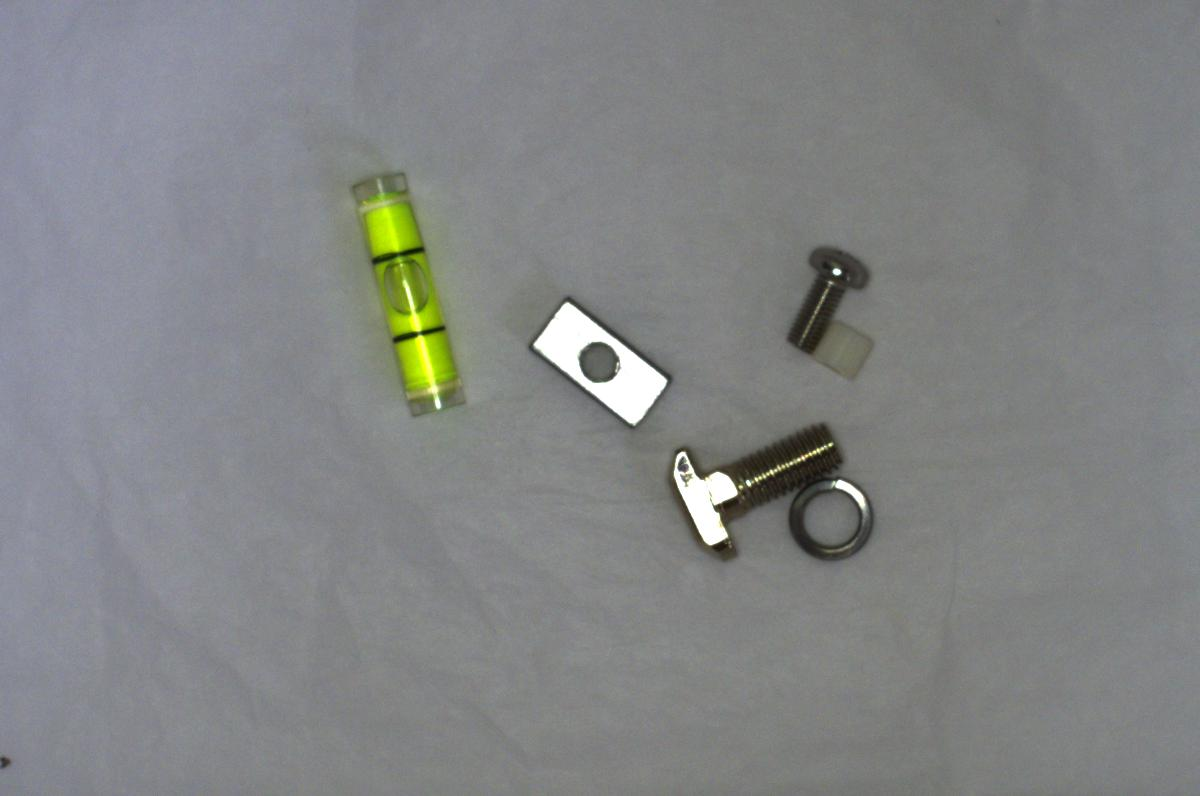Horizontal bubble: (344, 165, 475, 426)
Plastic cushion pillar: (812, 318, 884, 385)
Rectangular nut: (532, 299, 672, 427)
Round head screw: (780, 239, 865, 350)
Spring washer: (781, 478, 877, 565)
T-shaped screw: (662, 421, 847, 562)
